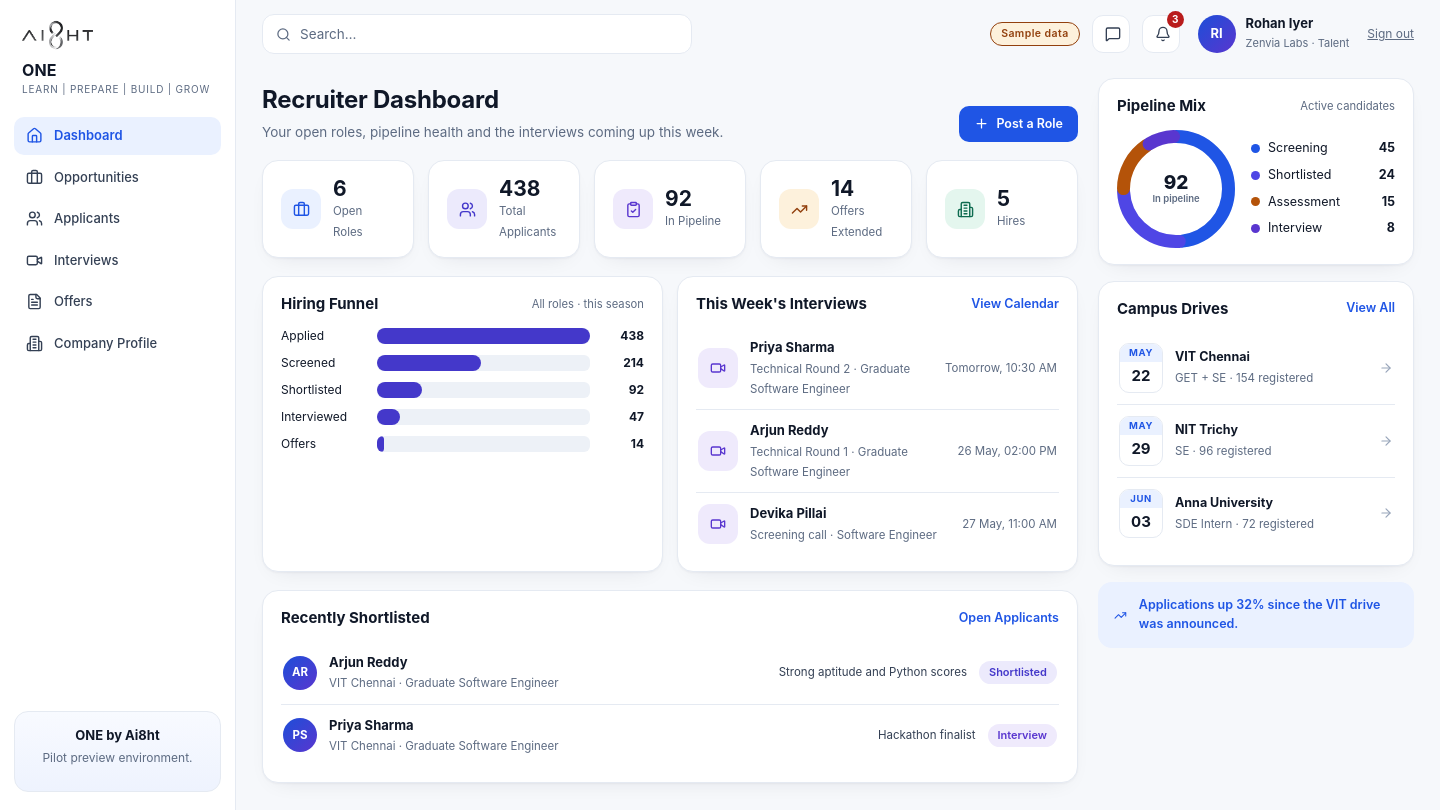
persona resolution and cross-portal coherence › shows the recruiter Zenvia Labs, with Arjun shortlisted in the pipeline
Check: the heading "Recruiter Dashboard" is shown, box [262,85,499,114]
What coordinates should you click on to do the following:
click the button "Applicants"
I would click on:
 (118, 219)
Its box is [14,200,221,238].
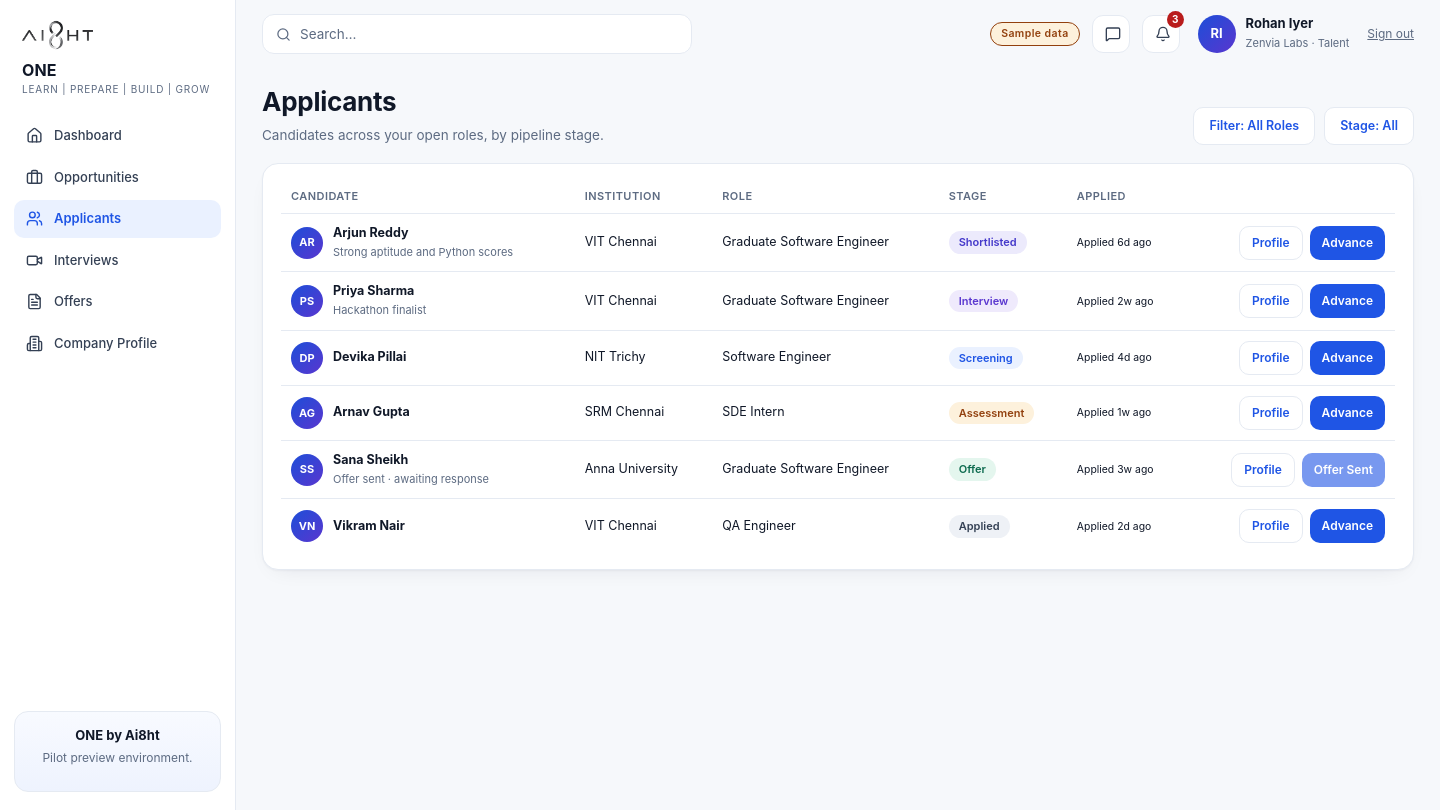
Check: the text "Arjun Reddy" is shown, box [333,225,408,240]
Check: the text "Shortlisted" is shown, box [949,231,1027,254]
// Advancing a candidate moves the stage chip live - the demo moment.
What coordinates should you click on to do the following:
click the button "Advance" in the row of "Arjun Reddy"
I would click on:
 (1347, 242)
Its box is [1310,226,1385,260].
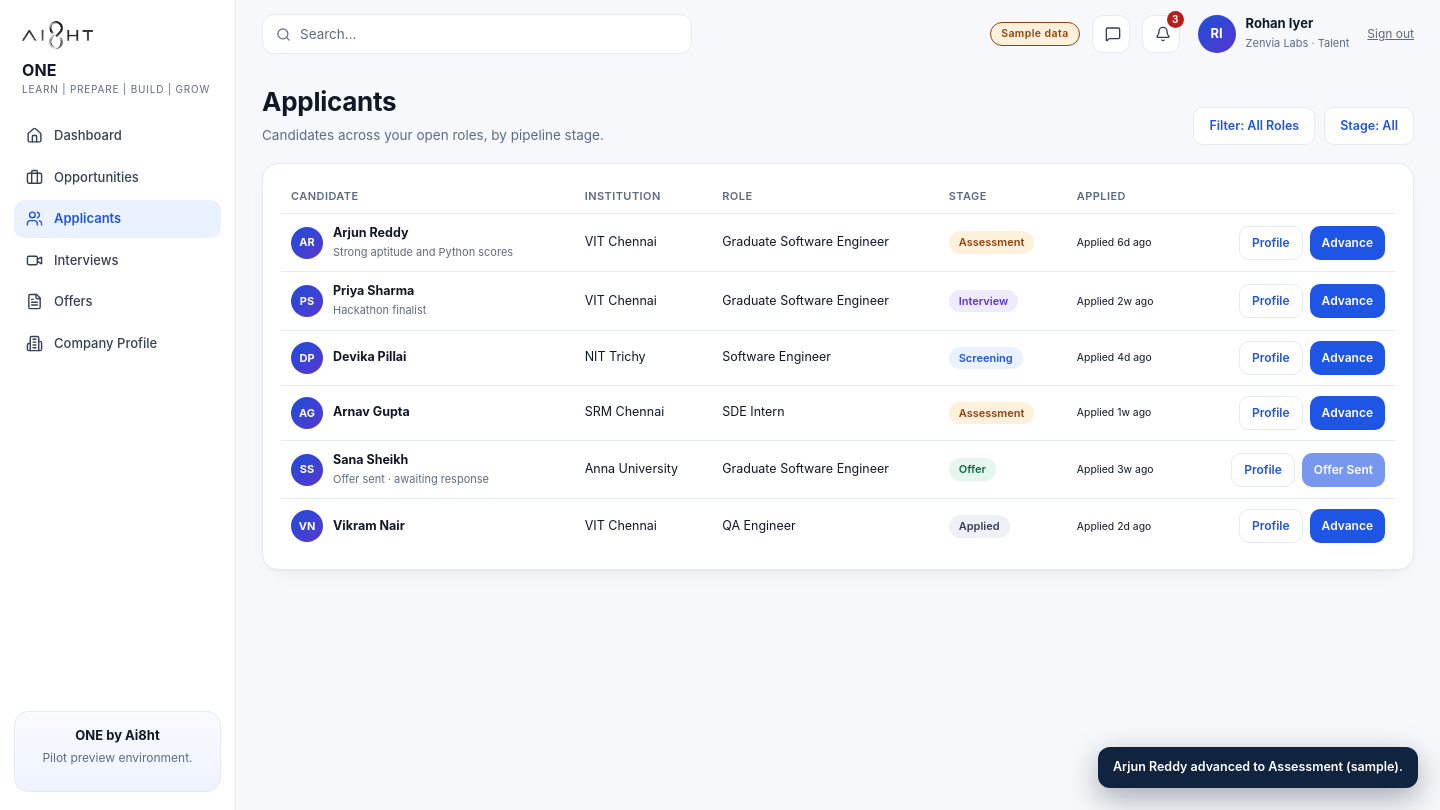
Check: the text "Assessment" in the row of "Strong aptitude and Python scores" is shown, box [959,235,1024,249]
What coordinates should you click on to do the following:
click the button "Opportunities"
I would click on:
 (118, 177)
Its box is [14,158,221,196].
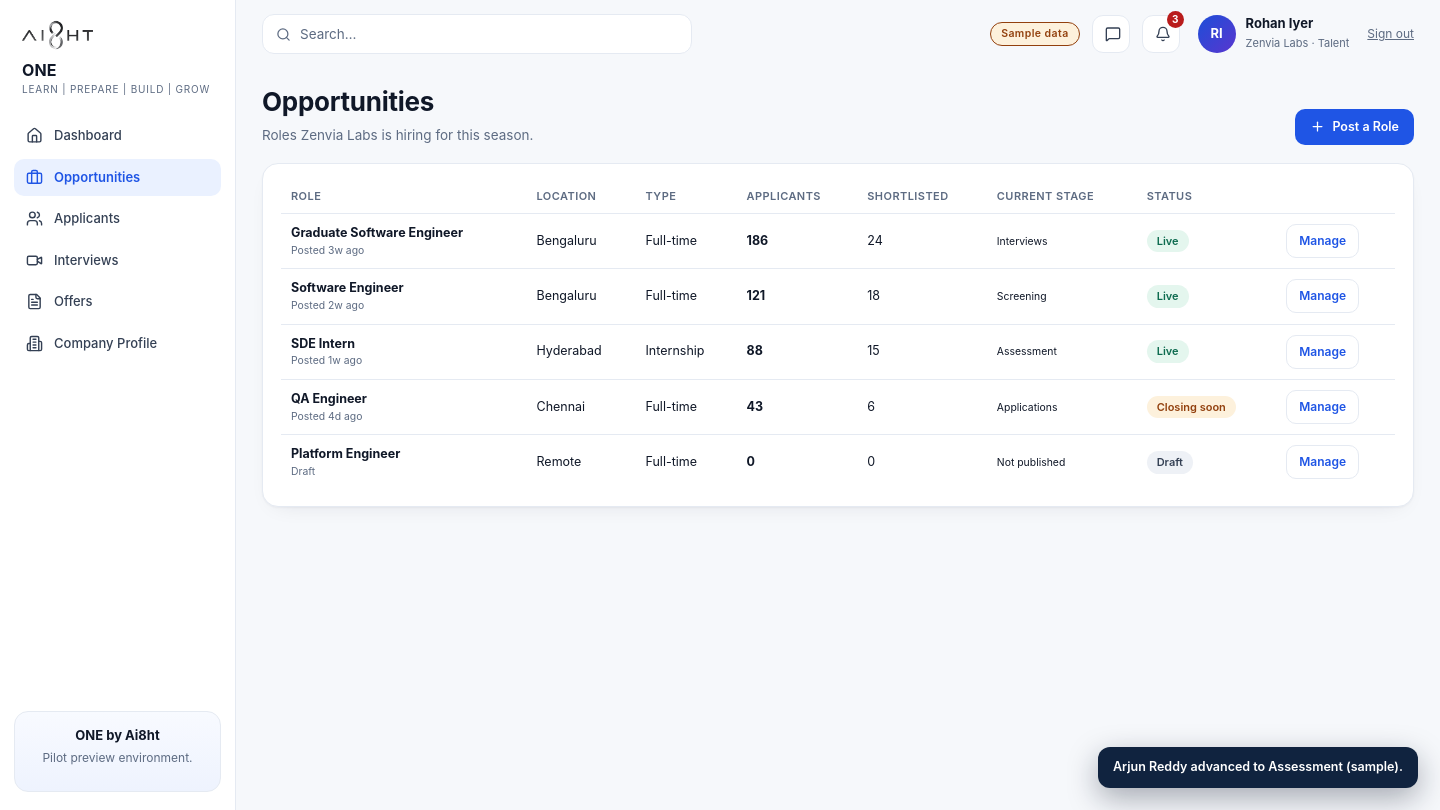
Check: the text "Graduate Software Engineer" is shown, box [291,225,463,240]
What coordinates should you click on to do the following:
click the button "Interviews"
I would click on:
 (118, 260)
Its box is [14,242,221,279].
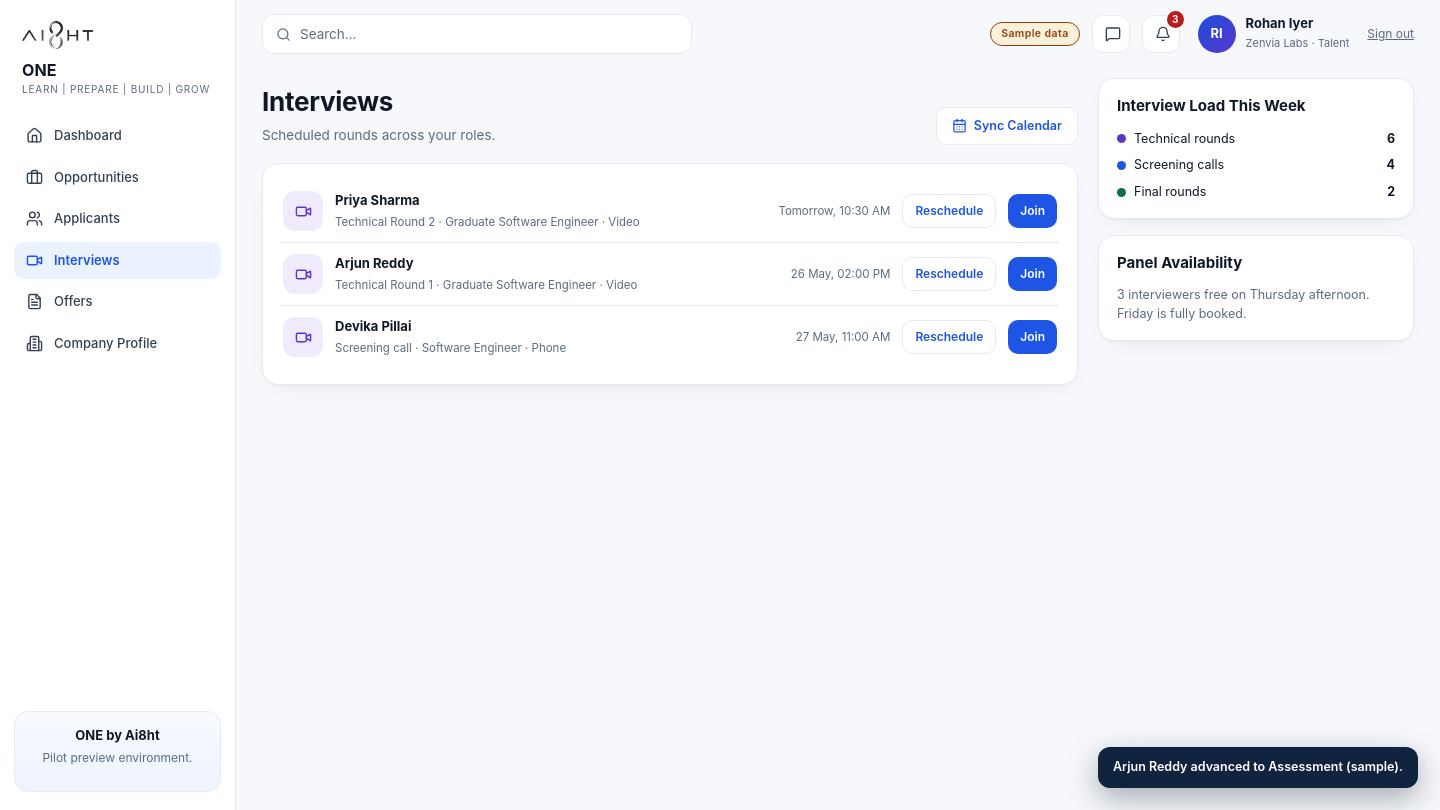
Check: the heading "Interviews" is shown, box [262,86,393,117]
